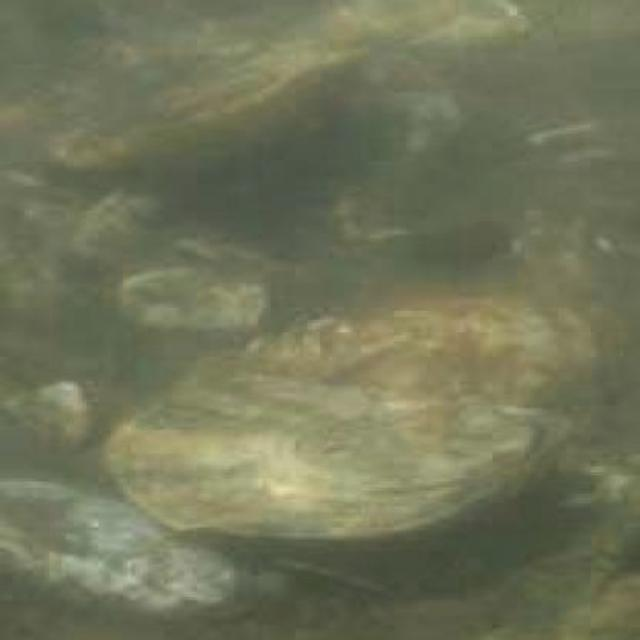Oyster-Closed: (102, 362, 580, 551), (42, 35, 397, 183), (0, 475, 301, 630), (217, 305, 594, 419), (119, 266, 273, 325)
Oyster-Open: (521, 123, 618, 171)
